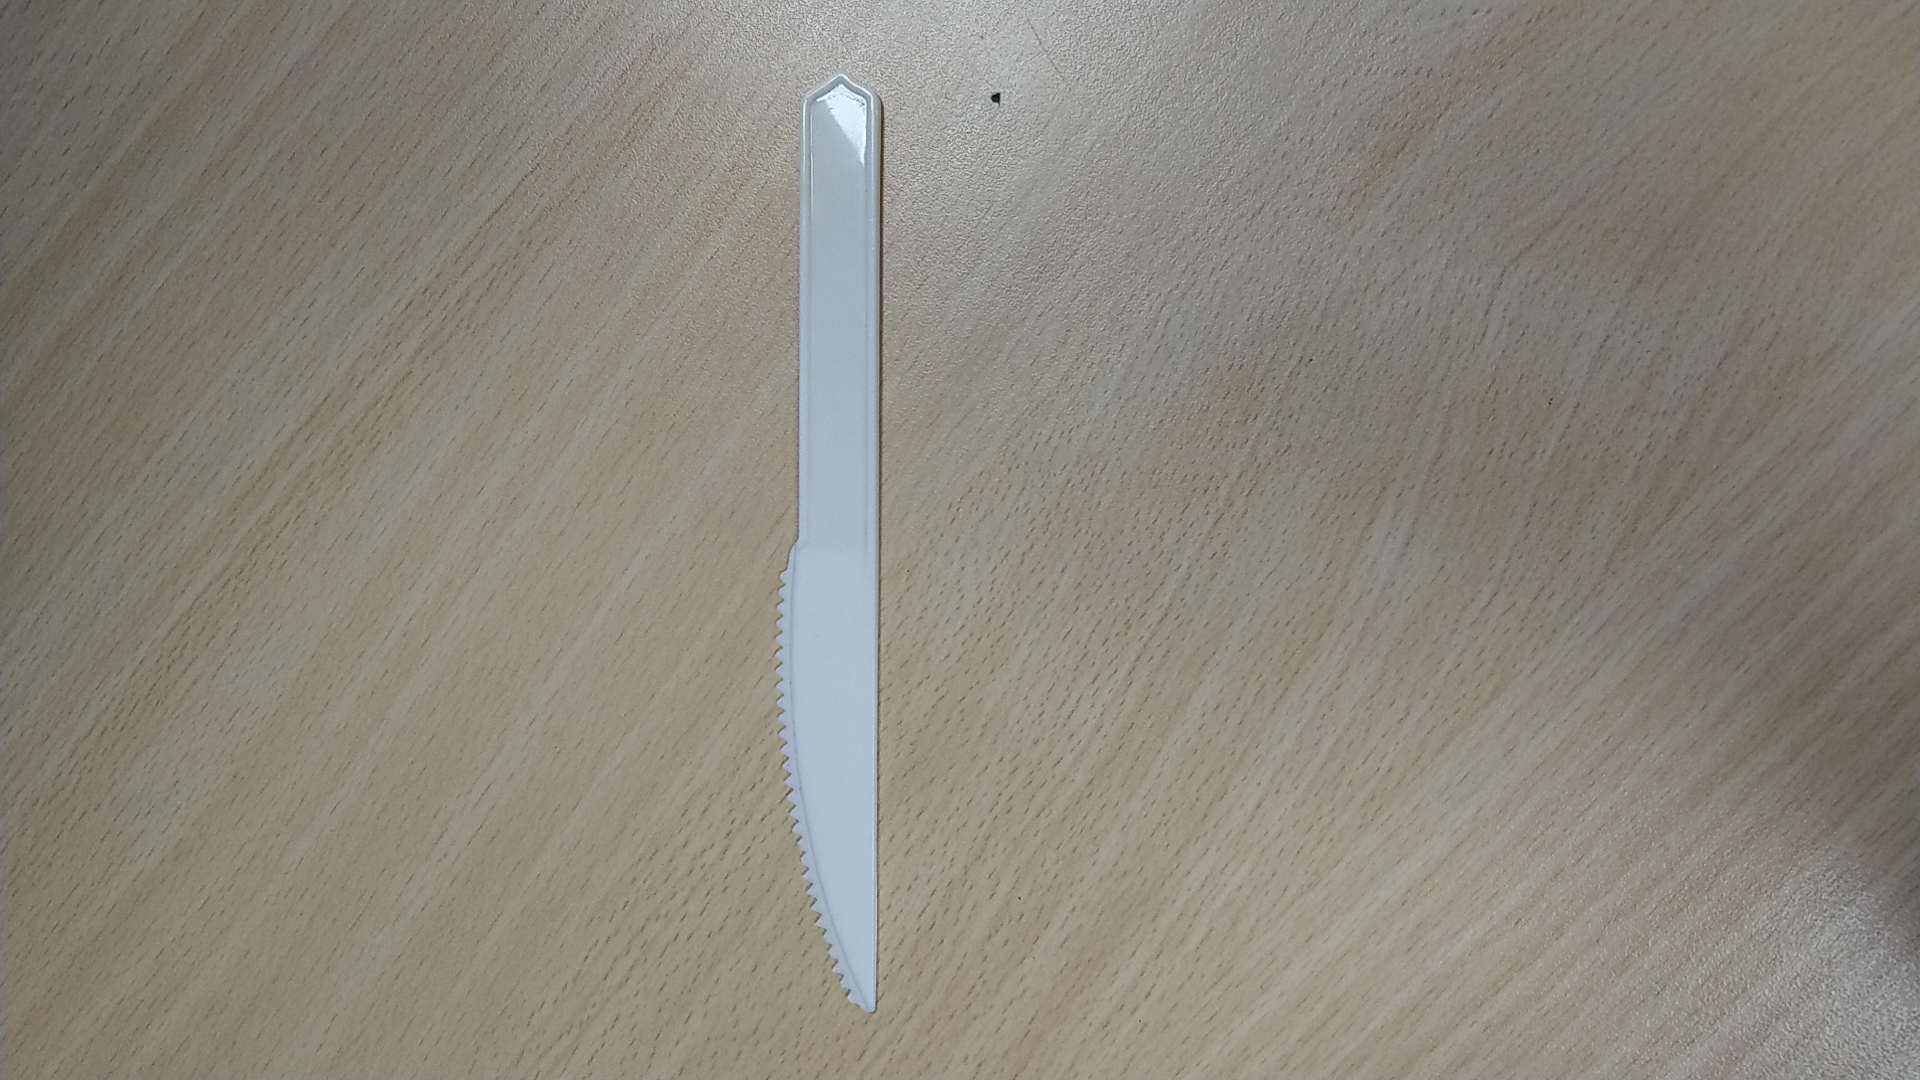knife: (754, 47, 940, 1030)
